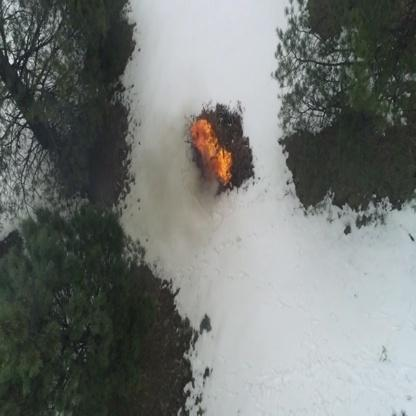Fire: (193, 121, 219, 158), (213, 149, 234, 184), (206, 158, 212, 171)
